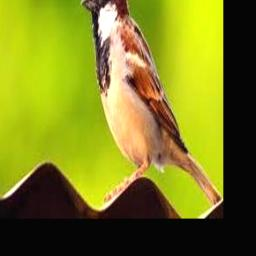Sparrow: (79, 0, 222, 205)
